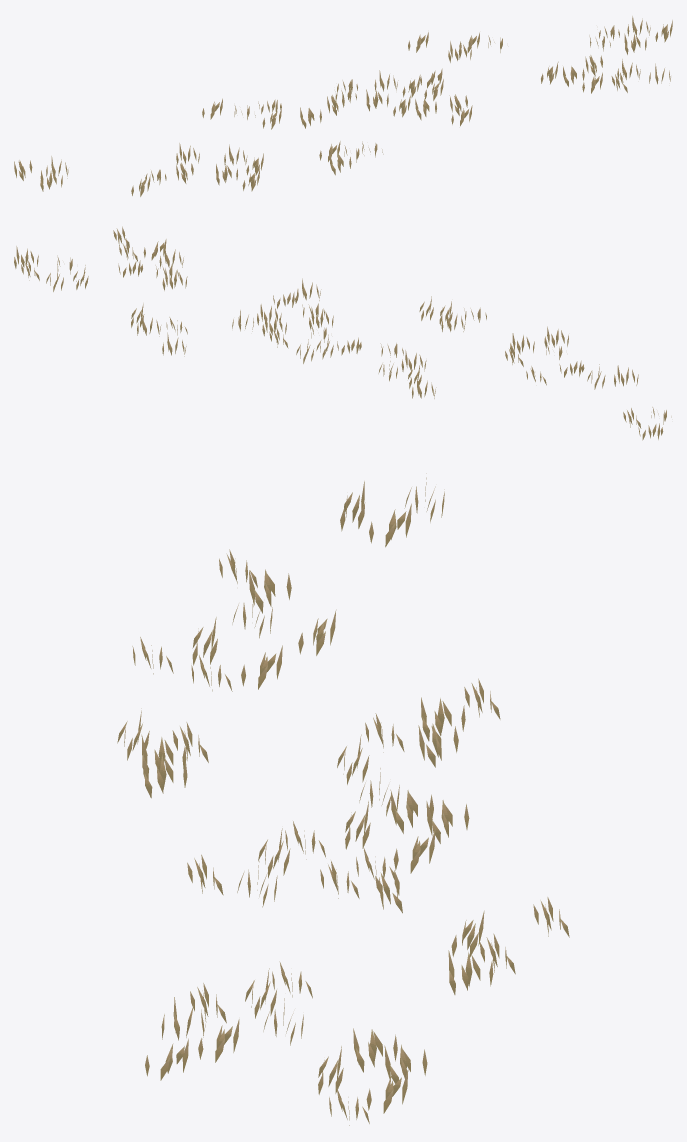
File: plants_un_main_grass_set21_03.gltf
3 views of the same model, one above another, from view 1: azimuth 30°, elevation 25°; view 2: azimuth 150°, elevation 25°; view 3: azimuth 270°, elevation 25° (orthographic). The views are drawn at different scales.
Parts seen in each view (by area): view 1: plants_un_main_grass_set21_03_mesh_shape:plants_un_main_gras; view 2: plants_un_main_grass_set21_03_mesh_shape:plants_un_main_gras; view 3: plants_un_main_grass_set21_03_mesh_shape:plants_un_main_gras.
Part boxes in pixels (x1,y1,x2,y2): plants_un_main_grass_set21_03_mesh_shape:plants_un_main_gras: [14, 16, 672, 196]; plants_un_main_grass_set21_03_mesh_shape:plants_un_main_gras: [14, 226, 671, 440]; plants_un_main_grass_set21_03_mesh_shape:plants_un_main_gras: [117, 473, 569, 1125].
Size of what is drawn, in the model's own units: 14.84 by 0.4188 by 4.55.
Materials: 1 (1 with a texture image).
